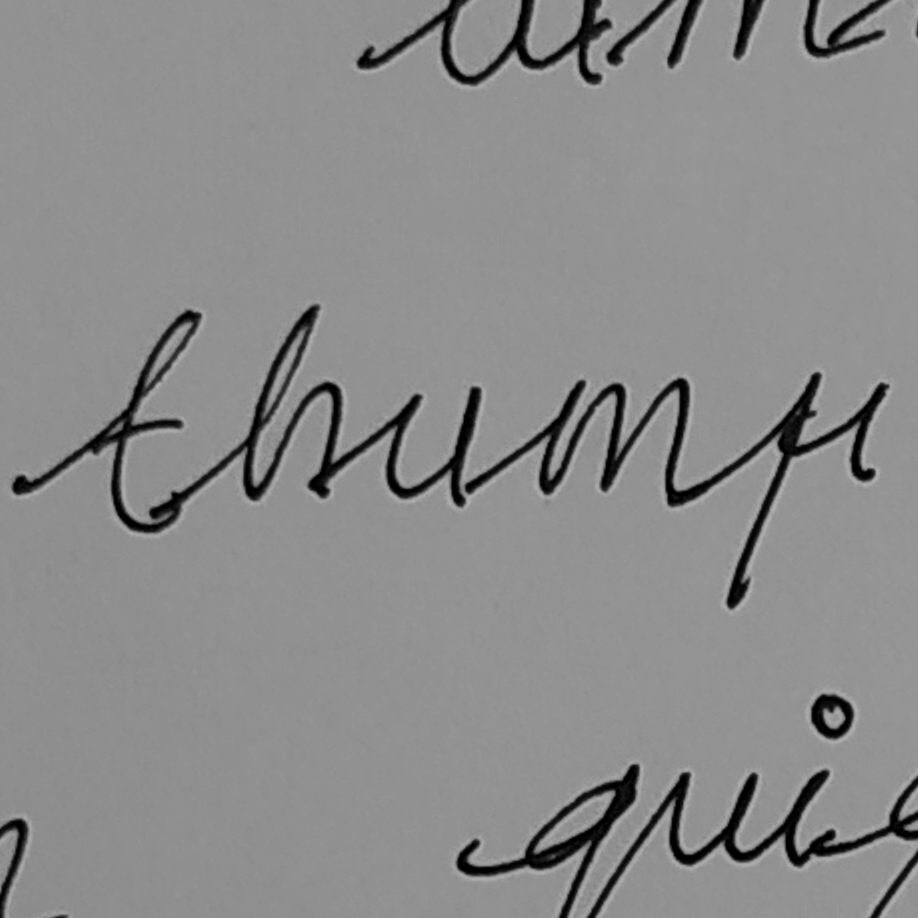h: (237, 301, 346, 508)
m: (531, 372, 697, 512)
p: (718, 369, 894, 614)
t: (88, 308, 203, 534)
u: (381, 379, 487, 513)
